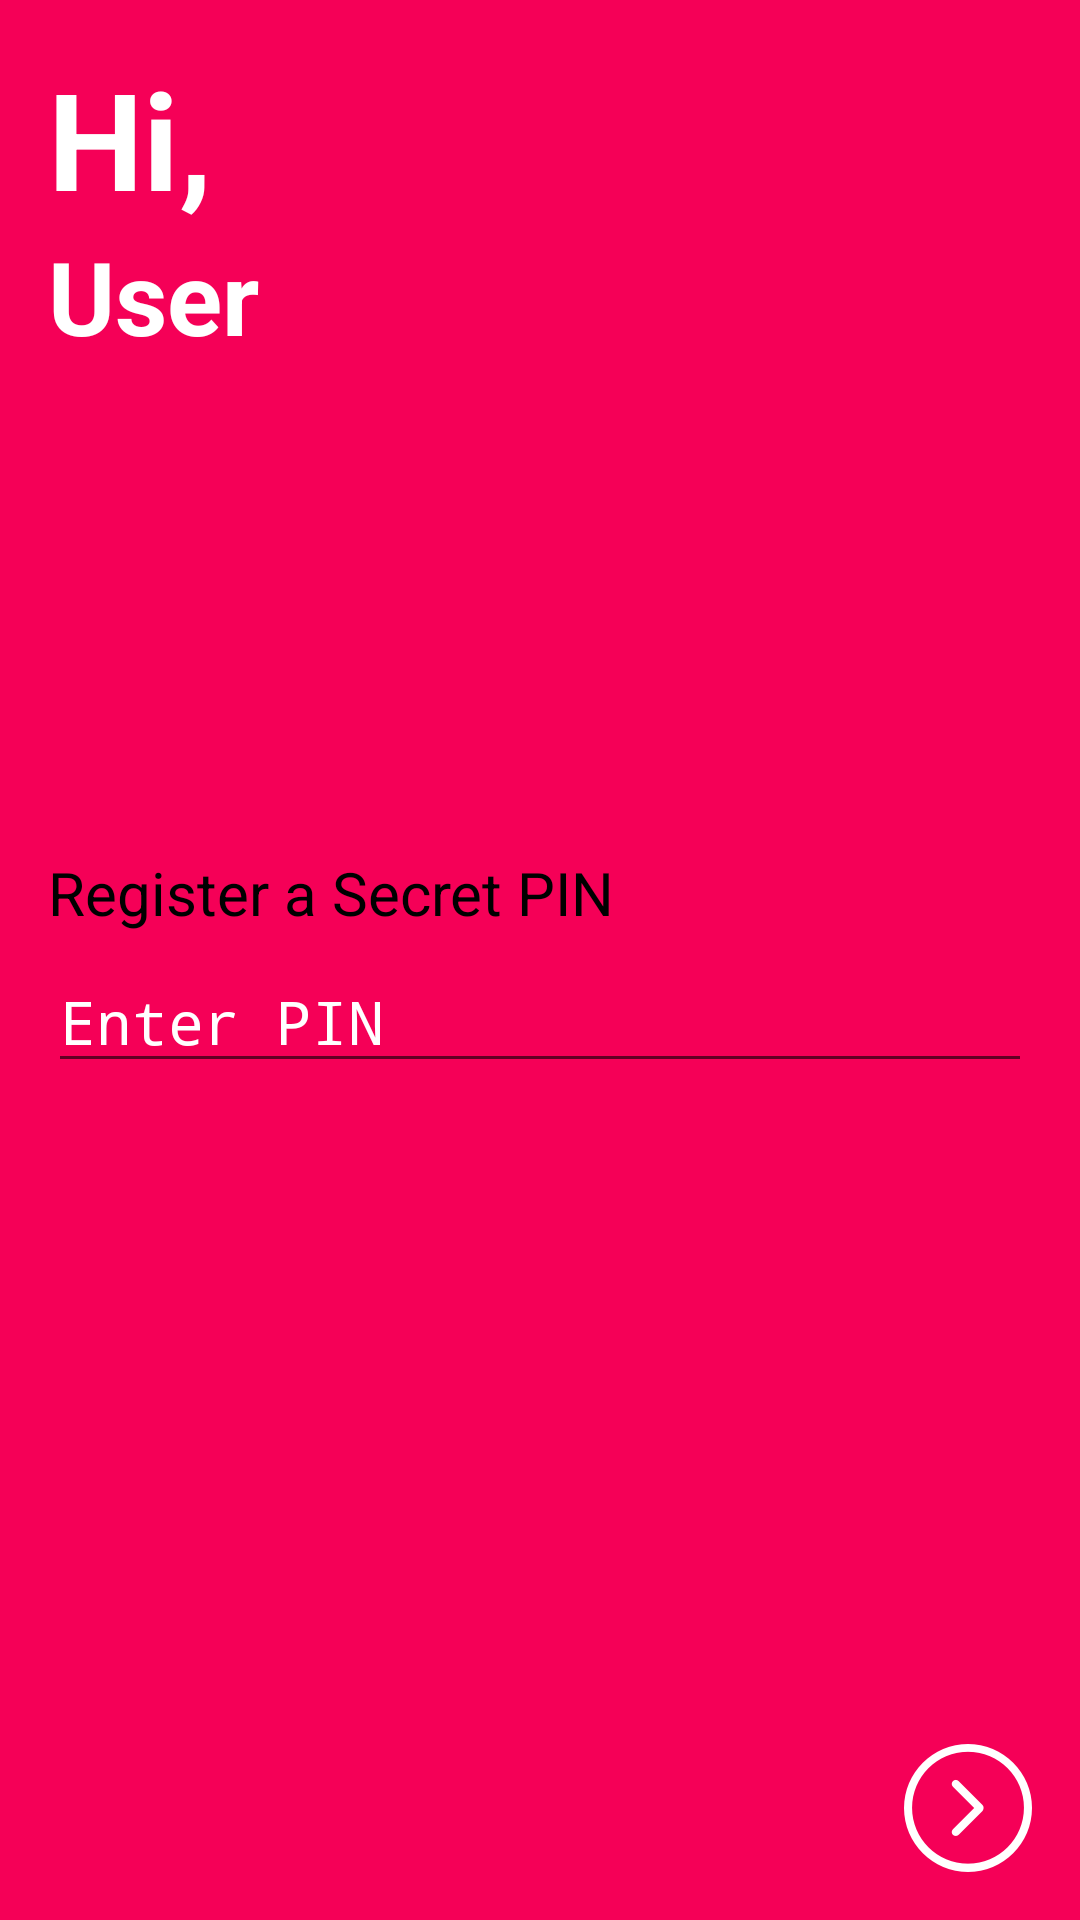

Where to tap for icons on this 1080*1920 app screen, as [x,y]:
next: [968,1808]
